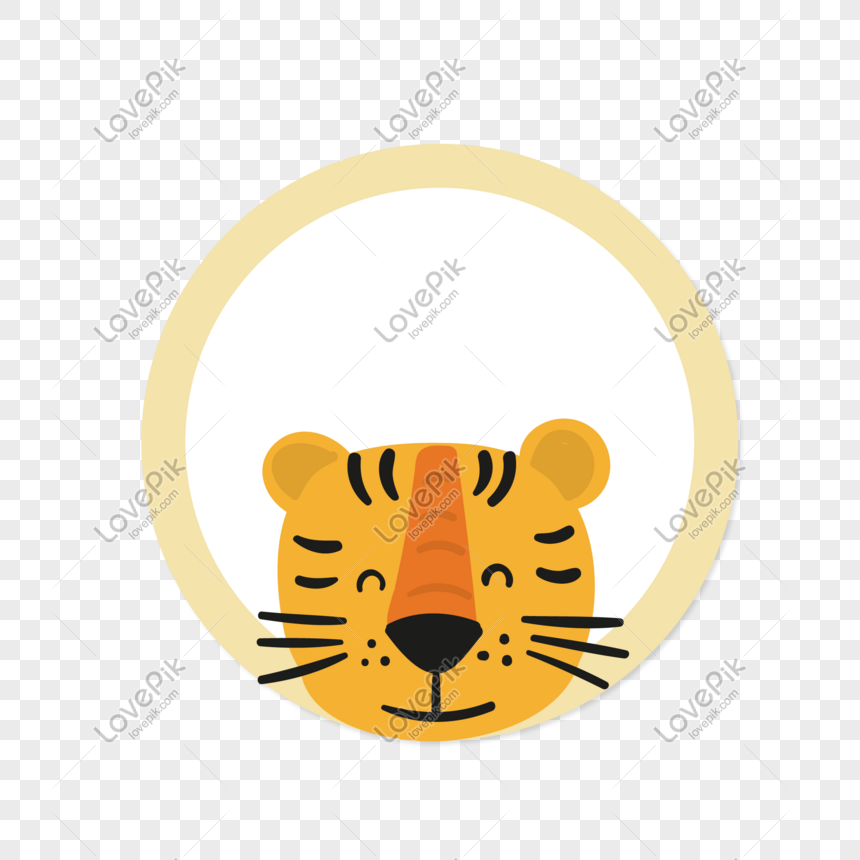Tigrew: (238, 386, 653, 768)
